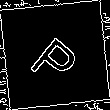P_NE: (25, 24, 85, 86)
